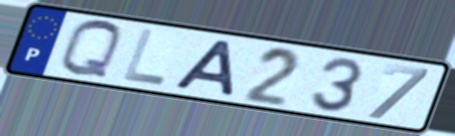2: (239, 46, 304, 109)
3: (308, 56, 366, 113)
7: (365, 62, 432, 121)
A: (170, 38, 237, 99)
L: (119, 27, 170, 88)
Q: (56, 18, 125, 82)
